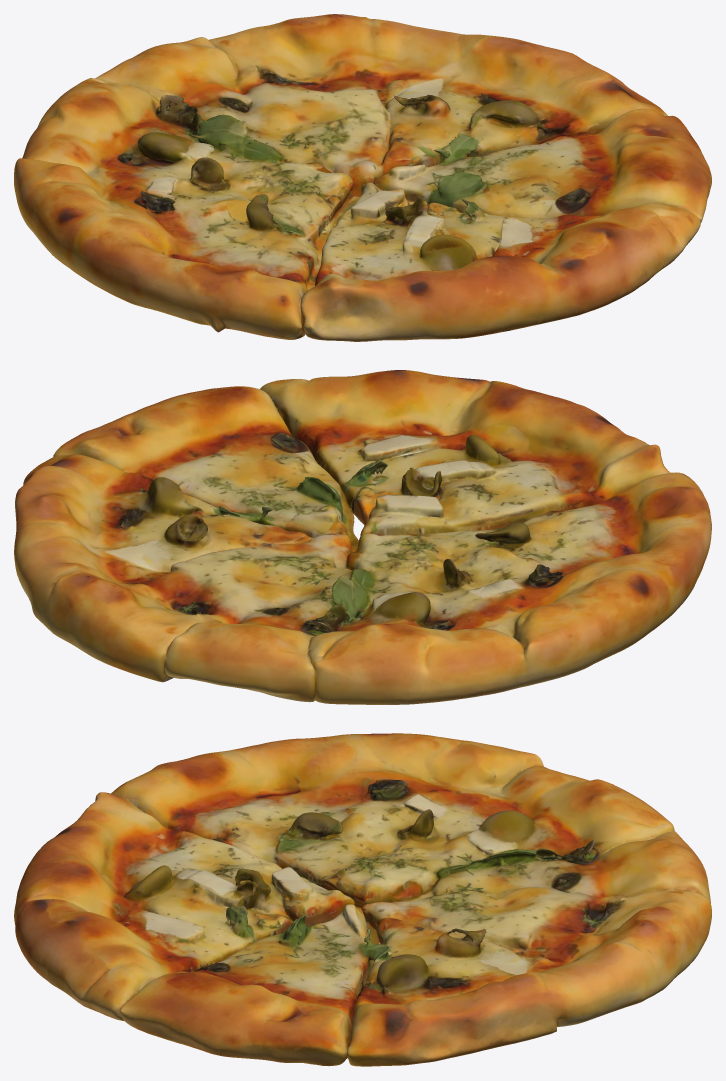
Rendered from Pecorino_Cheese_Pizza.glb.
3 renders of one model, top to bottom at view 1: azimuth 30°, elevation 25°; view 2: azimuth 150°, elevation 25°; view 3: azimuth 270°, elevation 25°, orthographic. The views are drawn at different scales.
Size of the model in its own units: 1.99 by 0.1947 by 2.
Materials: 1 (1 with a texture image).
